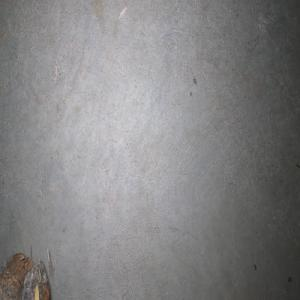Rock: (0, 245, 50, 300)
